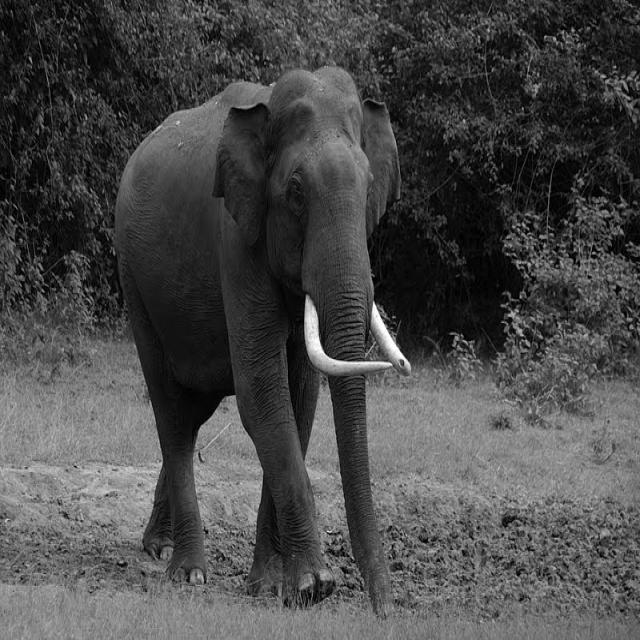Elephant: (113, 62, 412, 620)
